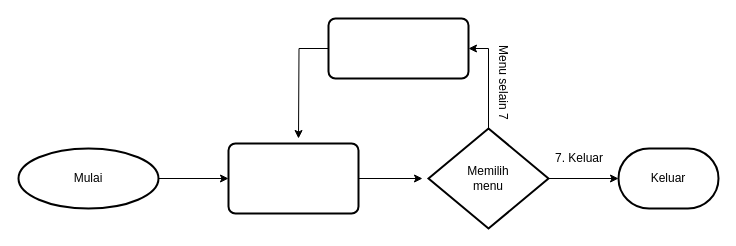
Some shapes in this 736 by 246 pixel diagram are drawn without their labels. Each missing label, with the centre of its shape:
Input dan proses data: the point at 398,48
Manampilkan menu: the point at 293,178
